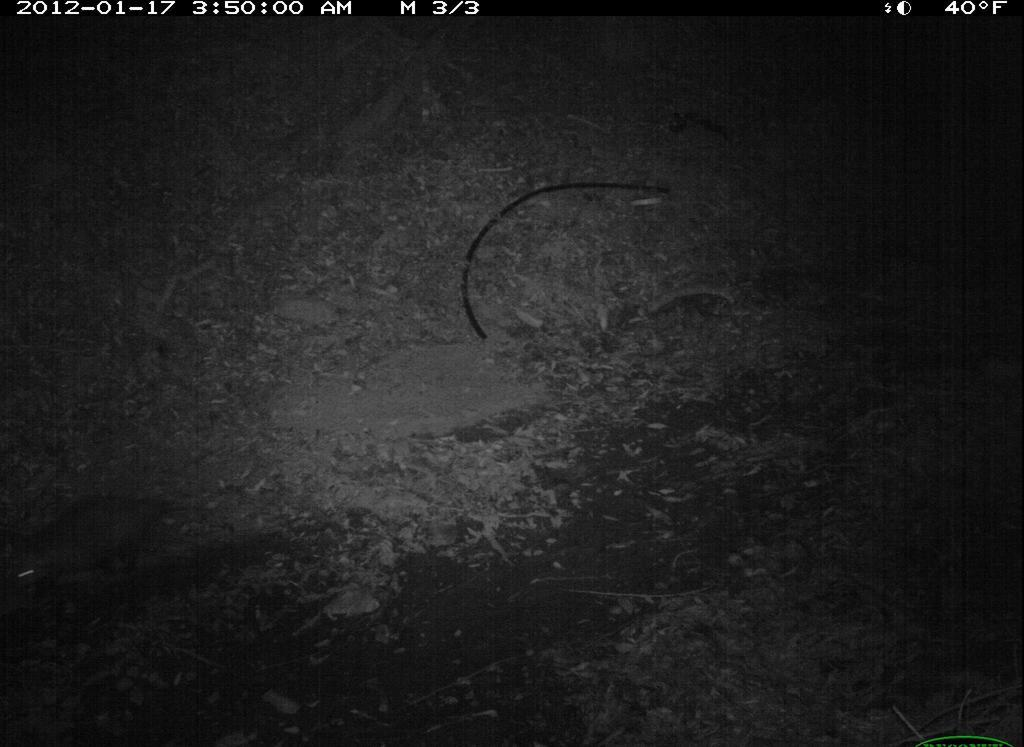opossum: (1, 479, 250, 626)
